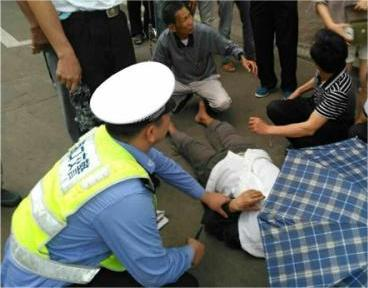bending: (1, 68, 216, 288), (144, 2, 256, 120), (267, 26, 360, 159)
down: (157, 99, 294, 263)
